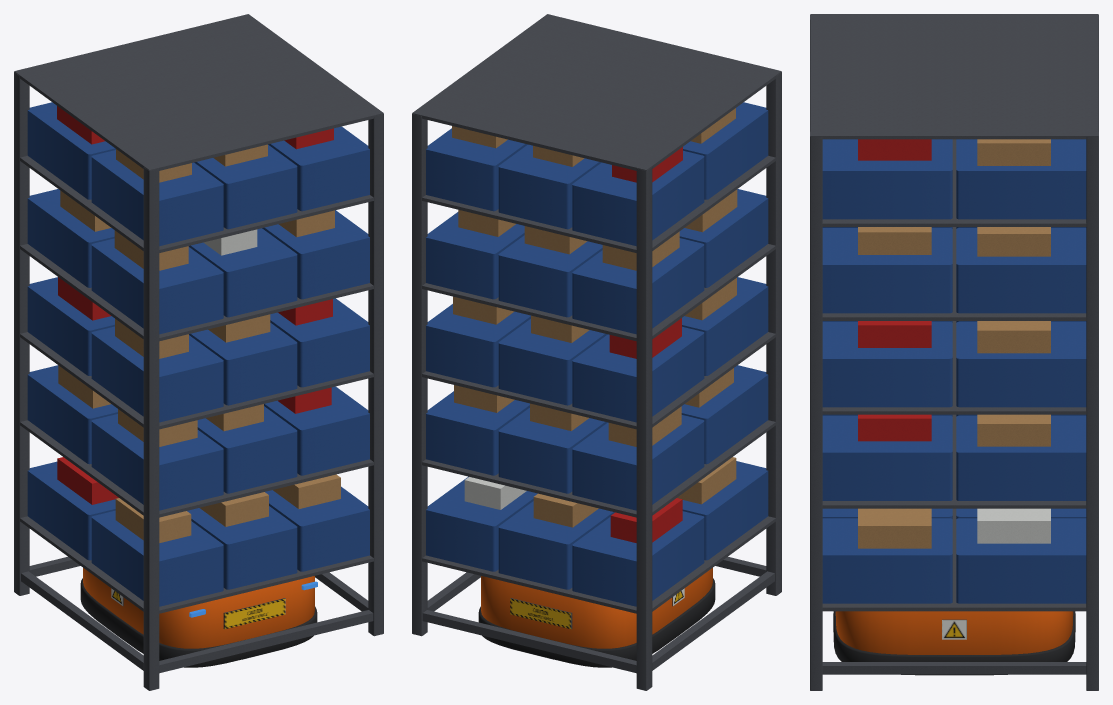
Rendered from warehouse-agv-with-shelf.glb.
The picture shows the model from 3 angles, left to right: view 1: azimuth 30°, elevation 25°; view 2: azimuth 150°, elevation 25°; view 3: azimuth 270°, elevation 25°; orthographic projection. The views are drawn at different scales.
Visible parts, largest first — view 1: Fabric bins, Pod frame, Stored boxes, Drive unit body, Bumper and skirt, Caution labels and lamps; view 2: Fabric bins, Pod frame, Stored boxes, Drive unit body, Bumper and skirt, Caution labels and lamps; view 3: Fabric bins, Pod frame, Stored boxes, Drive unit body, Bumper and skirt, Caution labels and lamps.
Part boxes in pixels (x1=…): Fabric bins: x1=27, y1=102, x2=369, y2=606; Pod frame: x1=14, y1=14, x2=383, y2=690; Stored boxes: x1=57, y1=106, x2=340, y2=542; Drive unit body: x1=83, y1=568, x2=314, y2=648; Bumper and skirt: x1=80, y1=578, x2=317, y2=667; Caution labels and lamps: x1=111, y1=581, x2=317, y2=629; Fabric bins: x1=426, y1=102, x2=768, y2=606; Pod frame: x1=412, y1=14, x2=781, y2=690; Stored boxes: x1=452, y1=108, x2=737, y2=542; Drive unit body: x1=481, y1=568, x2=712, y2=648; Bumper and skirt: x1=478, y1=578, x2=715, y2=667; Caution labels and lamps: x1=510, y1=588, x2=684, y2=629; Fabric bins: x1=822, y1=139, x2=1086, y2=603; Pod frame: x1=810, y1=14, x2=1098, y2=690; Stored boxes: x1=858, y1=139, x2=1050, y2=548; Drive unit body: x1=835, y1=611, x2=1073, y2=654; Bumper and skirt: x1=833, y1=611, x2=1075, y2=675; Caution labels and lamps: x1=835, y1=611, x2=1073, y2=639.
Size of the model in its own units: 0.92 by 2 by 0.92.
Materials: 14 (14 with a texture image).
